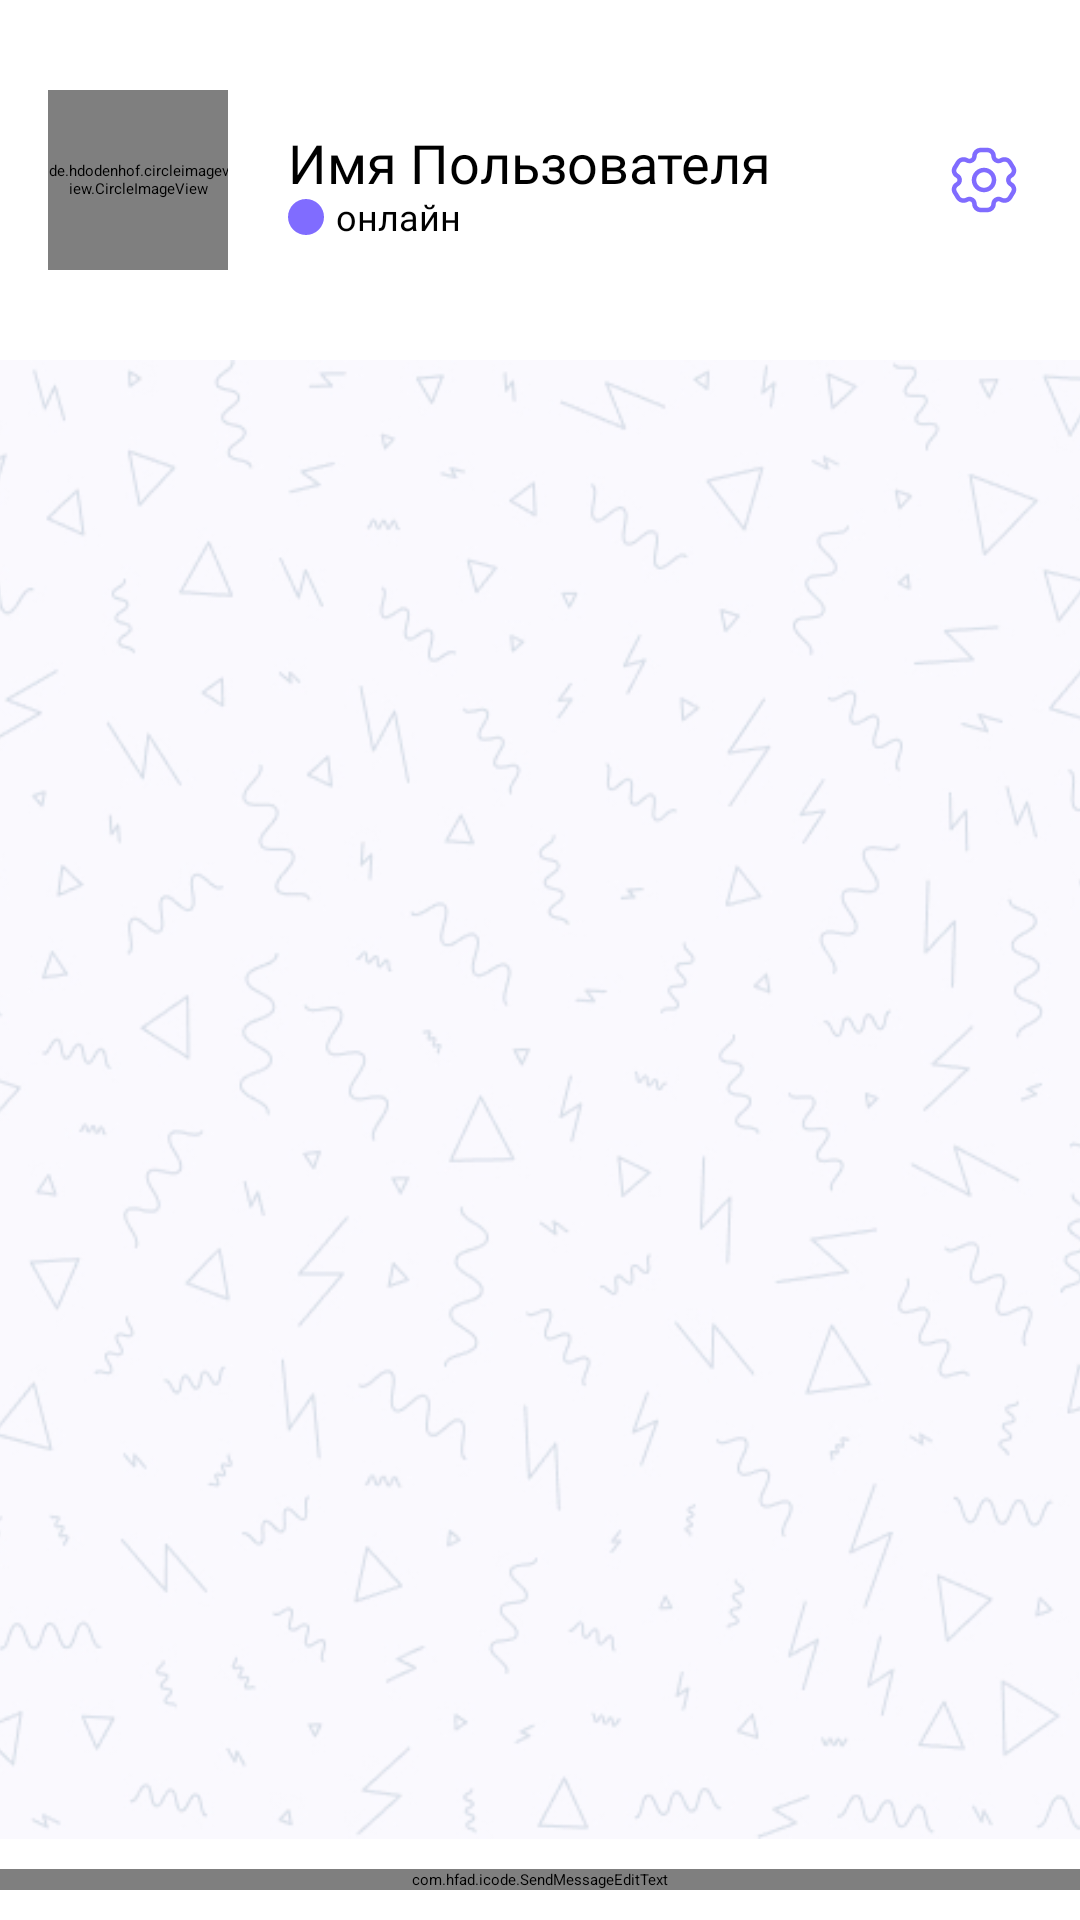

Icons on this 1080x1920 Android screen, each with the point to tap as (x,y):
settings: (984,180)
